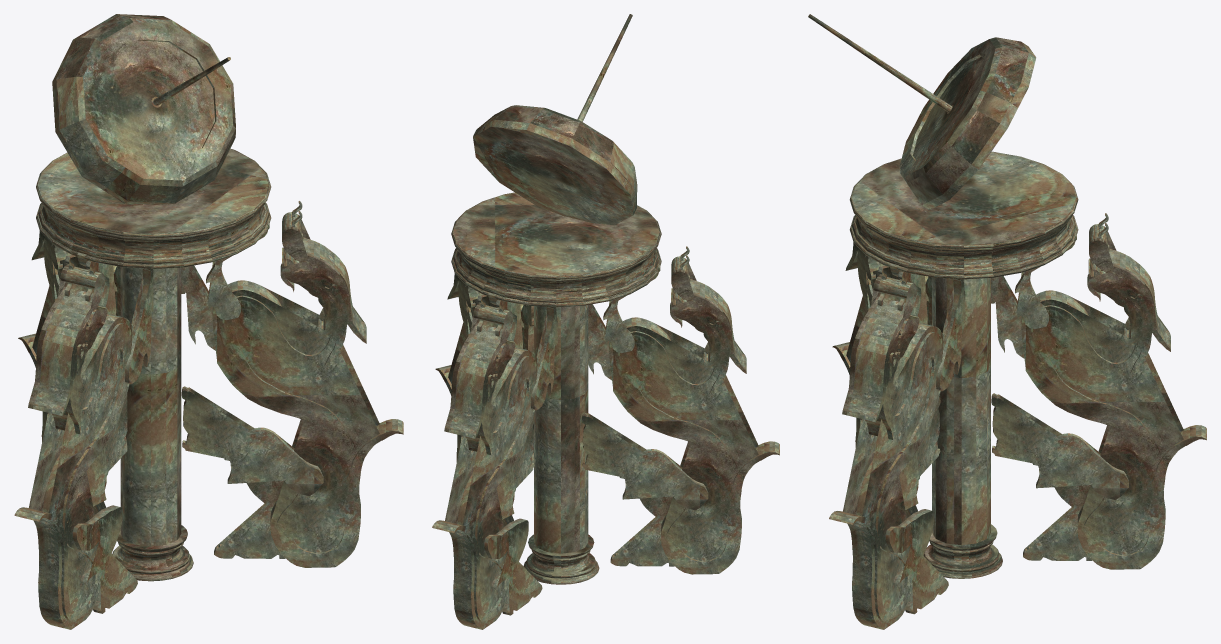
3 views of the same model, side by side, from view 1: azimuth 30°, elevation 25°; view 2: azimuth 150°, elevation 25°; view 3: azimuth 270°, elevation 25° (orthographic). The views are drawn at different scales.
Parts seen in each view (by area): view 1: Group17, Group2, Group7, Group6, Group5, Group26, Group15, Group25, Group14, Group27, Group24, Group16 (+3 smaller); view 2: Group7, Group6, Group27, Group2, Group5, Group16, Group35, Group15, Group34, Group17, Group36, Group14 (+4 smaller); view 3: Group27, Group6, Group17, Group2, Group5, Group36, Group25, Group35, Group24, Group7, Group26, Group34 (+3 smaller).
Part boxes in pixels (x1=…): Group17: x1=212, y1=212, x2=403, y2=567; Group2: x1=52, y1=14, x2=235, y2=204; Group7: x1=14, y1=264, x2=132, y2=629; Group6: x1=36, y1=148, x2=271, y2=581; Group5: x1=120, y1=267, x2=181, y2=546; Group26: x1=181, y1=386, x2=323, y2=495; Group15: x1=72, y1=505, x2=137, y2=613; Group25: x1=214, y1=480, x2=285, y2=558; Group14: x1=124, y1=268, x2=153, y2=384; Group27: x1=18, y1=231, x2=116, y2=489; Group24: x1=181, y1=265, x2=215, y2=350; Group16: x1=86, y1=393, x2=127, y2=506; Group7: x1=609, y1=256, x2=779, y2=574; Group6: x1=451, y1=192, x2=661, y2=584; Group27: x1=432, y1=303, x2=537, y2=629; Group2: x1=473, y1=105, x2=637, y2=225; Group5: x1=534, y1=305, x2=588, y2=553; Group16: x1=581, y1=413, x2=708, y2=510; Group35: x1=484, y1=518, x2=542, y2=615; Group15: x1=610, y1=496, x2=674, y2=566; Group34: x1=530, y1=306, x2=557, y2=410; Group17: x1=435, y1=273, x2=523, y2=504; Group36: x1=496, y1=416, x2=534, y2=519; Group14: x1=588, y1=304, x2=611, y2=380; Group27: x1=1021, y1=224, x2=1206, y2=569; Group6: x1=849, y1=151, x2=1078, y2=578; Group17: x1=829, y1=275, x2=943, y2=629; Group2: x1=899, y1=37, x2=1036, y2=210; Group5: x1=932, y1=277, x2=990, y2=545; Group36: x1=991, y1=393, x2=1128, y2=499; Group25: x1=885, y1=509, x2=948, y2=614; Group35: x1=1023, y1=485, x2=1091, y2=560; Group24: x1=936, y1=278, x2=965, y2=391; Group7: x1=832, y1=242, x2=927, y2=493; Group26: x1=899, y1=397, x2=940, y2=509; Group34: x1=991, y1=276, x2=1024, y2=358.
Bounding box in the file's own units: 2143 × 2984 × 1967.
1 material, 1 textured.
